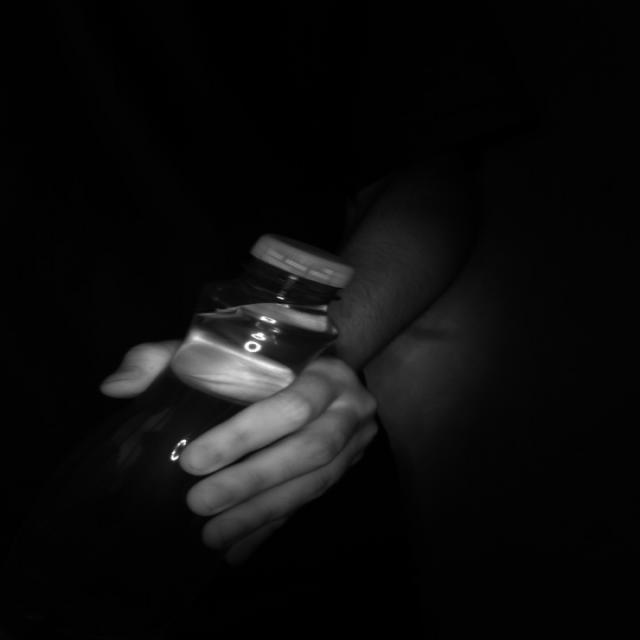Not Good: (246, 236, 354, 302)
